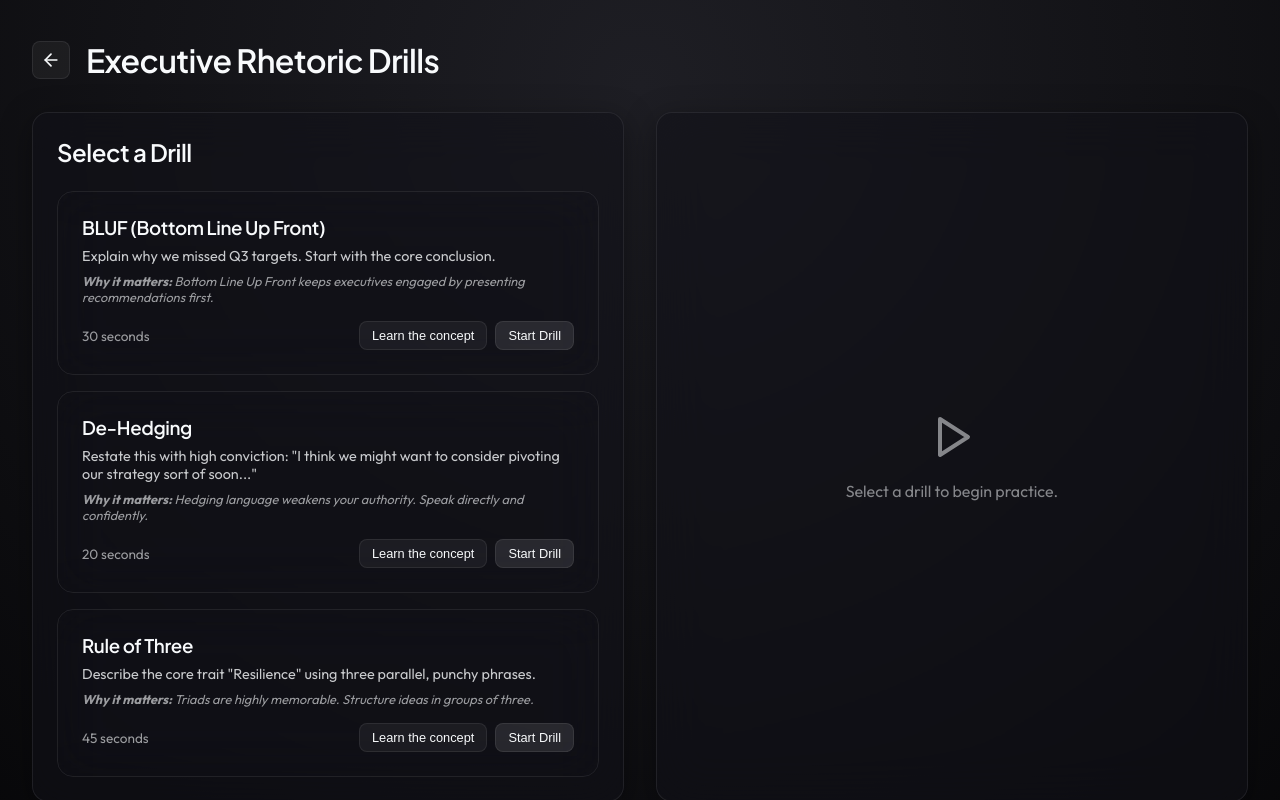
Scenario: Drills Component › submits transcript and displays coach response when clicking finish
This screenshot has width=1280, height=800.
// Select and start BLUF drill
Click the button "Start Drill" in the row of "30".
click(535, 336)  # box [495,321,574,350]
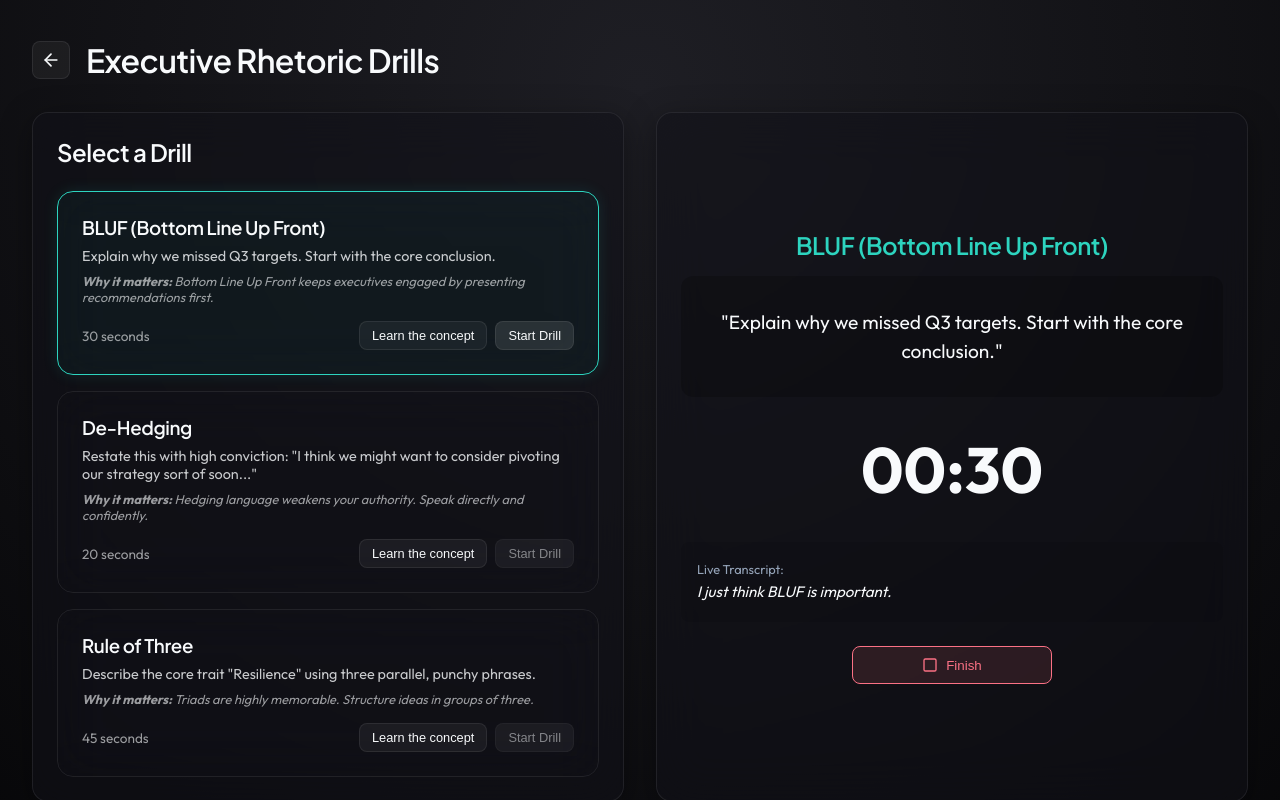
// Finish drill
Click the button "Finish".
click(952, 665)  # box [852,646,1052,684]
(page scrolled)
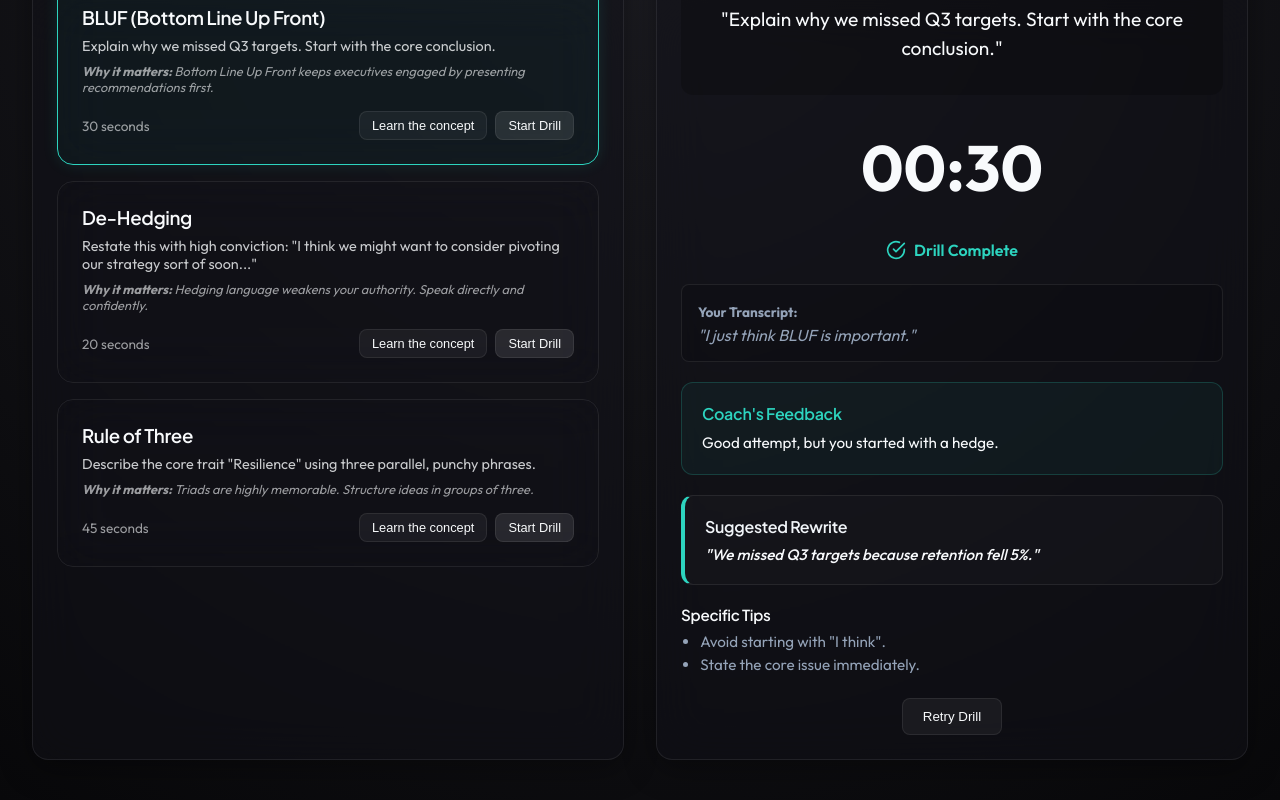
Check: the text "\"I just think BLUF is important.\"" is shown, box [698,325,916,345]
Check: the text "Good attempt, but you started with a hedge." is shown, box [702,433,999,452]
Check: the text "\"We missed Q3 targets because retention fell 5%.\"" is shown, box [705,545,1039,564]
